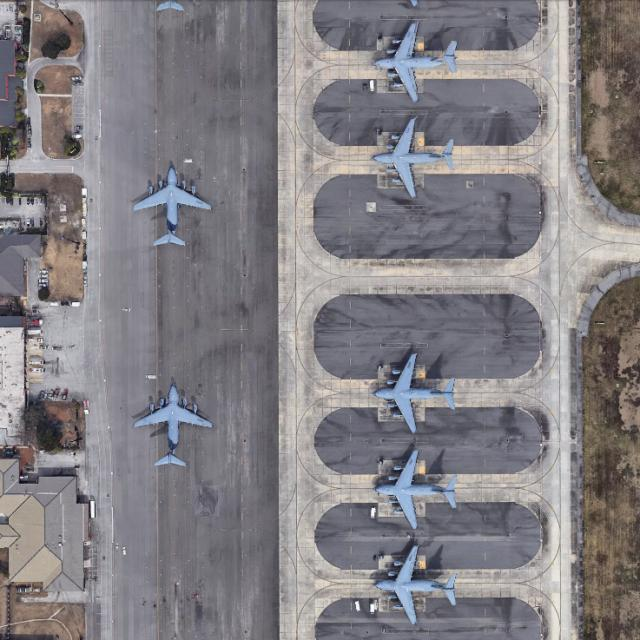fighter jet: (368, 539, 463, 628), (132, 385, 214, 475), (365, 352, 456, 432), (132, 166, 204, 256), (368, 116, 456, 188), (375, 25, 462, 92), (371, 450, 456, 517)
